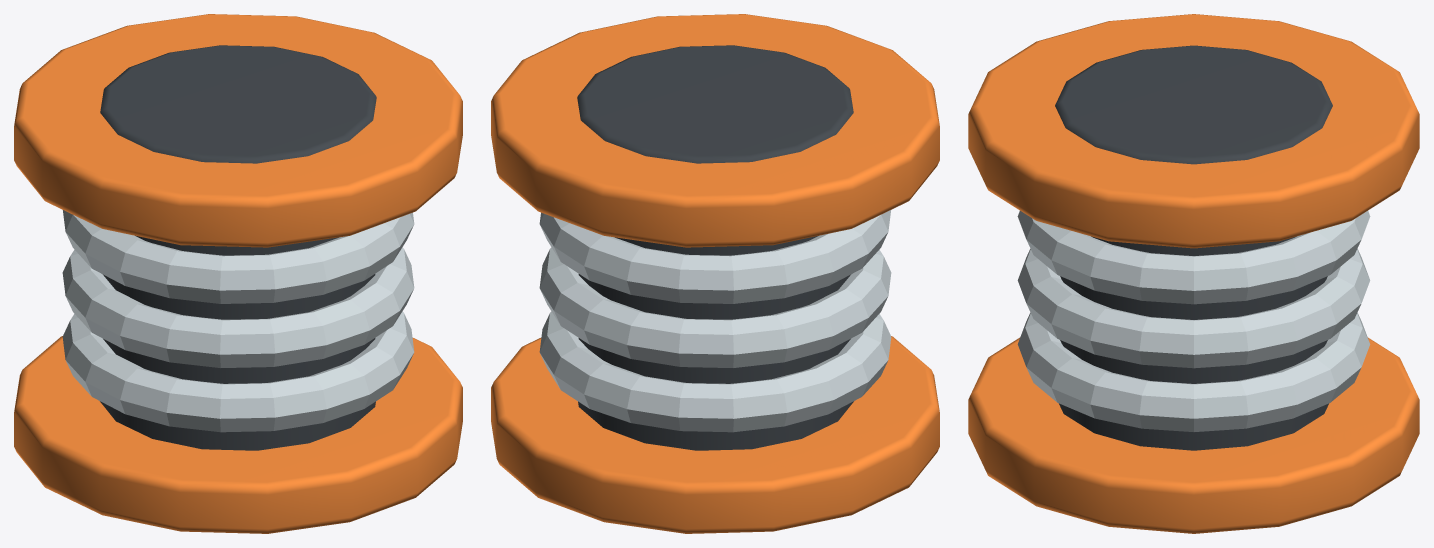
The model's file is obstacle-spool.glb.
3 renders of one model, left to right at view 1: azimuth 30°, elevation 25°; view 2: azimuth 150°, elevation 25°; view 3: azimuth 270°, elevation 25°, orthographic.
Parts seen in each view (by area): view 1: Cable spool flange.001, Cable spool flange, Cable spool core, Coiled cable, Coiled cable.001, Coiled cable.002; view 2: Cable spool flange.001, Cable spool flange, Cable spool core, Coiled cable, Coiled cable.001, Coiled cable.002; view 3: Cable spool flange.001, Cable spool flange, Cable spool core, Coiled cable.001, Coiled cable, Coiled cable.002.
Boxes of the visible parts, box(x1,y1,x2,y2) form: Cable spool flange.001: box(14, 14, 462, 247); Cable spool flange: box(14, 336, 462, 533); Cable spool core: box(100, 45, 376, 450); Coiled cable: box(62, 311, 414, 432); Coiled cable.001: box(62, 247, 414, 367); Coiled cable.002: box(63, 210, 414, 303); Cable spool flange.001: box(491, 14, 939, 247); Cable spool flange: box(491, 336, 939, 533); Cable spool core: box(577, 45, 853, 450); Coiled cable: box(539, 311, 891, 432); Coiled cable.001: box(539, 247, 891, 367); Coiled cable.002: box(539, 210, 890, 303); Cable spool flange.001: box(968, 14, 1419, 248); Cable spool flange: box(968, 337, 1419, 533); Cable spool core: box(1055, 45, 1332, 450); Coiled cable.001: box(1017, 249, 1370, 368); Coiled cable: box(1017, 312, 1370, 431); Coiled cable.002: box(1017, 211, 1370, 304).
Bounding box in the file's own units: 0.96 × 0.8 × 0.96.
